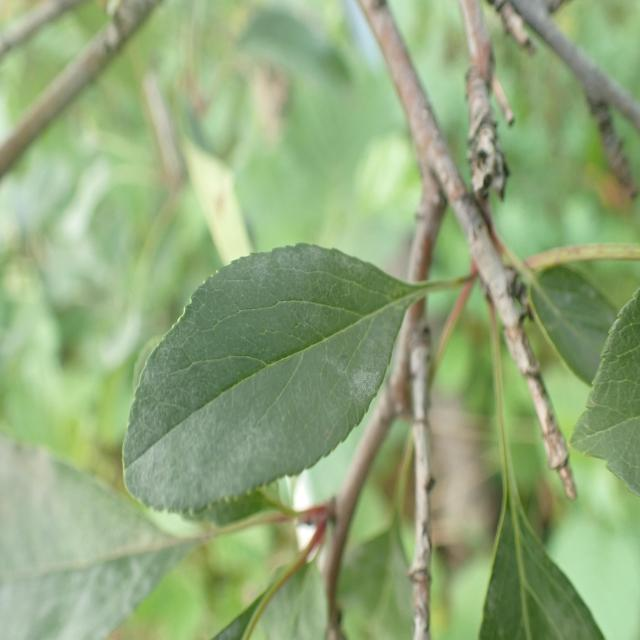Powdery_mildew: (128, 239, 408, 506)
